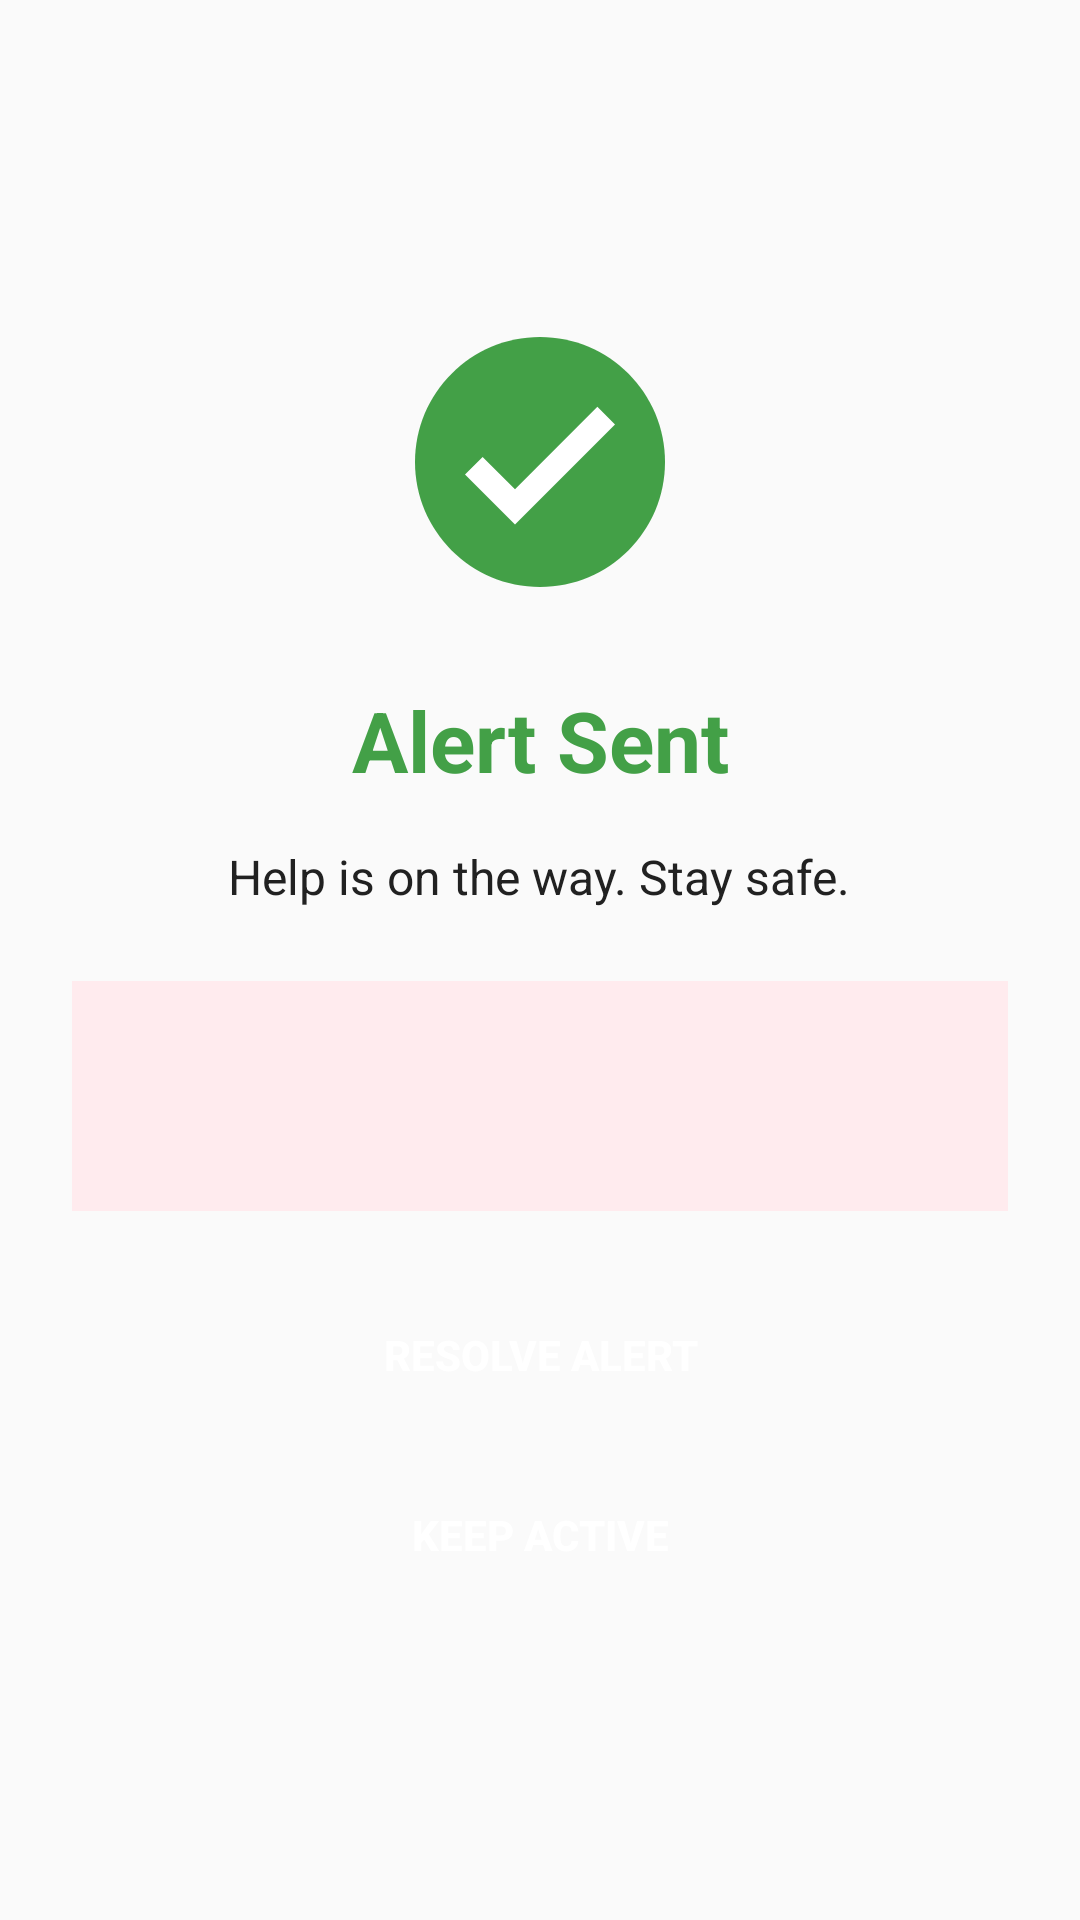

Point at icon controls on the screen. Image size 1080px x 1920px, points as (x=x, y=y).
checkmark circle: (x=540, y=462)
